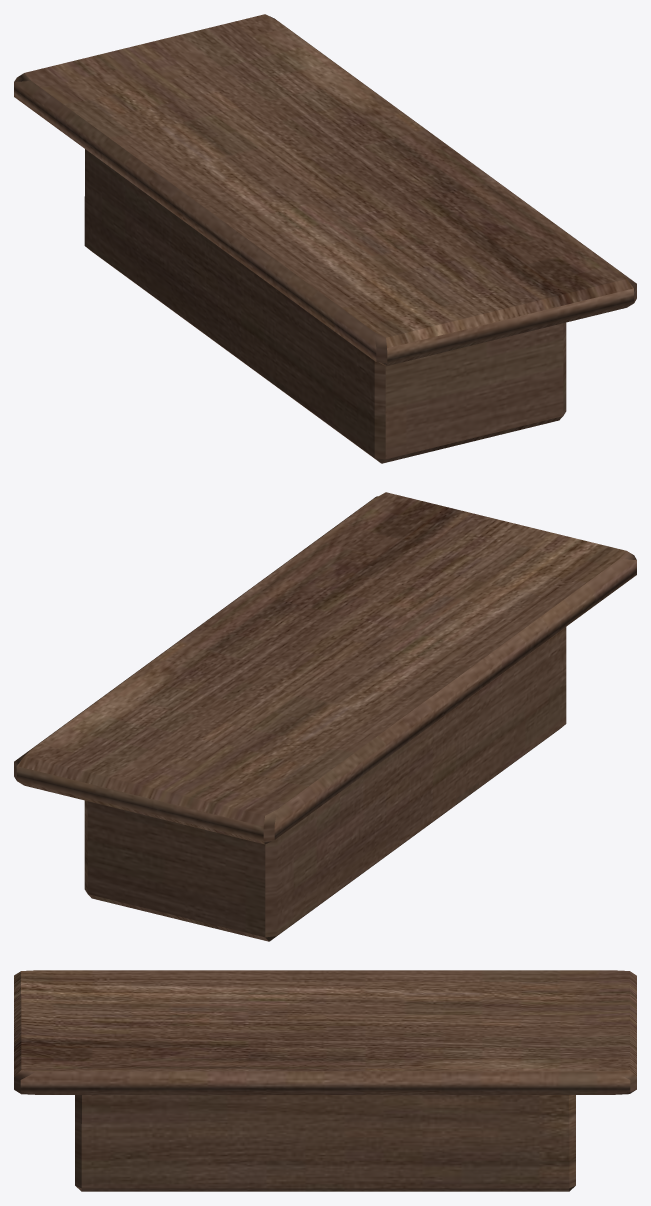
The model's file is table.fbx.
3 views of the same model, one above another, from view 1: azimuth 30°, elevation 25°; view 2: azimuth 150°, elevation 25°; view 3: azimuth 270°, elevation 25° (orthographic). The views are drawn at different scales.
Visible parts, largest first — view 1: table; view 2: table; view 3: table.
Part boxes in pixels (x1,y1,x2,y2): table: (14,14,636,463); table: (14,492,636,941); table: (14,970,636,1191).
Bounding box in the file's own units: 185 × 109 × 456.
Materials: 1 (1 with a texture image).
